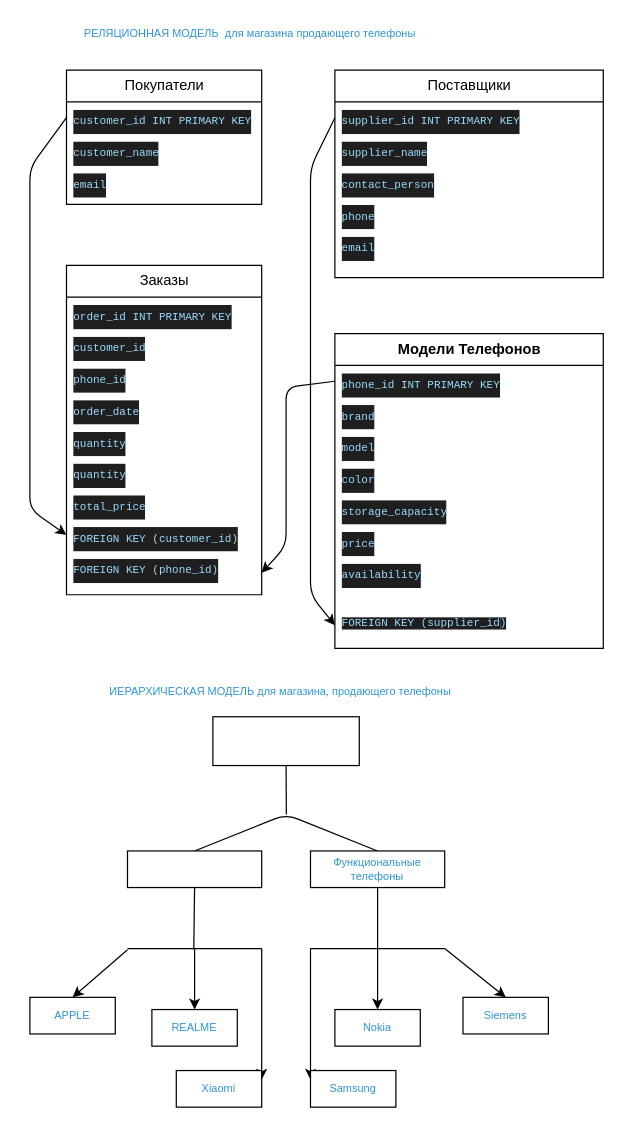
Some shapes in this 625 by 1129 pixel diagram are drawn without their labels. Here are the shapes that lost their labels. From the top down, the centre of each, then its label:
At pixel 285 741: "КАТЕГОРИИ ТЕЛЕФОНОВ".
At pixel 194 869: "СМАРТФОНЫ".
